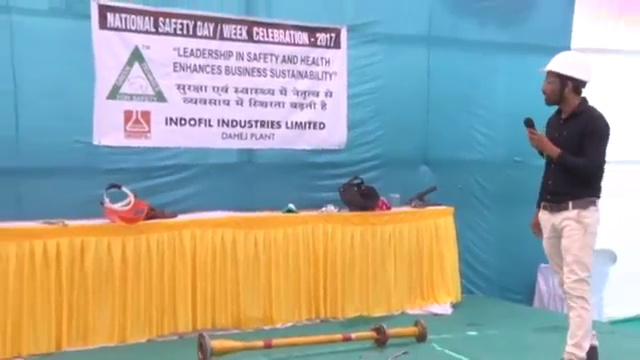helmet: (538, 49, 592, 83)
helmet_on: (536, 49, 592, 114)
person: (526, 47, 611, 360)
